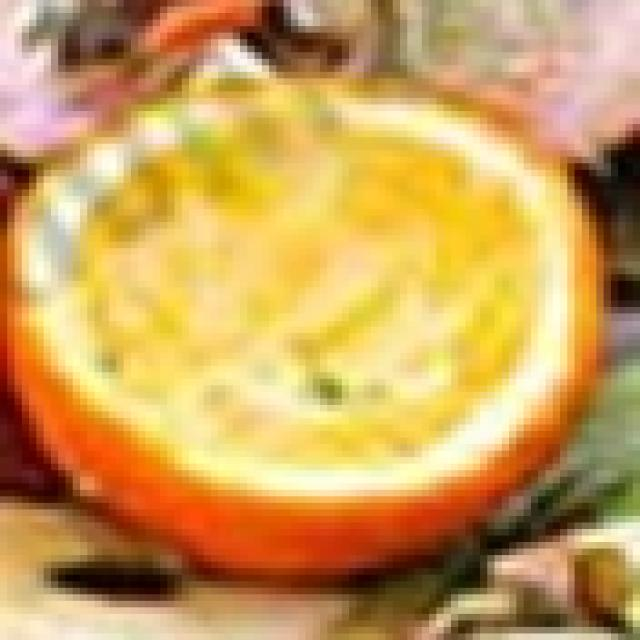food waste: (36, 0, 640, 581)
